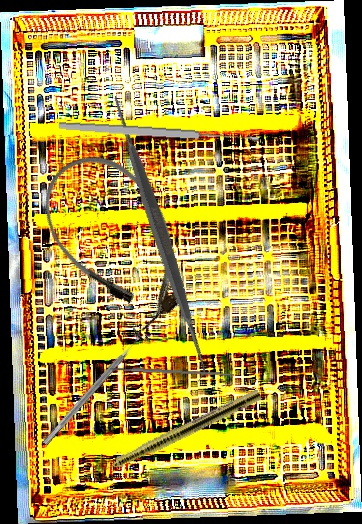Cannula: (21, 133, 213, 346)
Fixation Ring: (35, 324, 151, 451)
Handpiece: (82, 386, 263, 485)
Scalpel Handle: (109, 365, 235, 378)
Spatula Surgical: (6, 81, 314, 388)
Surgical Spoon: (57, 119, 261, 146)
